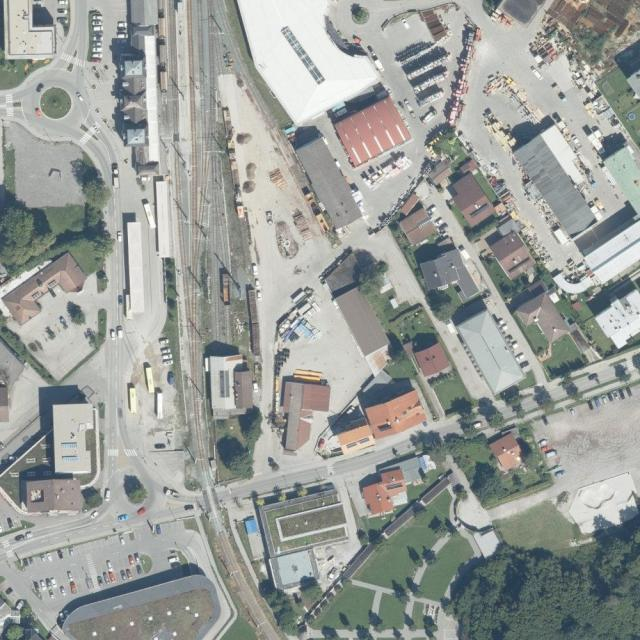building: (513, 133, 599, 239), (255, 482, 351, 558), (294, 136, 364, 231), (118, 23, 160, 171), (456, 308, 526, 396), (331, 95, 412, 169), (334, 285, 391, 358), (418, 247, 481, 313), (281, 371, 331, 453), (205, 352, 258, 420), (513, 290, 571, 352), (363, 389, 429, 442), (539, 123, 591, 187), (592, 285, 640, 350), (357, 466, 414, 520), (446, 172, 496, 229), (52, 404, 93, 473), (602, 145, 640, 216), (488, 229, 537, 281), (22, 478, 82, 513), (270, 550, 316, 590), (489, 432, 529, 474), (398, 207, 438, 247), (615, 40, 640, 98), (414, 342, 452, 380), (336, 423, 377, 456), (502, 0, 544, 25), (0, 382, 10, 422)
greenland: (355, 513, 443, 604), (494, 493, 585, 571), (31, 202, 116, 278), (442, 422, 511, 510), (411, 531, 478, 607), (0, 198, 58, 279), (0, 315, 58, 391), (215, 406, 264, 483), (476, 242, 533, 303), (387, 218, 433, 288), (413, 489, 468, 543), (311, 584, 375, 630), (566, 297, 615, 357), (529, 262, 579, 320), (535, 333, 589, 385), (512, 420, 552, 485), (562, 19, 612, 67), (0, 50, 49, 90), (35, 82, 77, 124), (420, 282, 461, 324), (518, 314, 553, 358), (77, 174, 116, 213), (115, 471, 151, 507), (501, 471, 546, 494), (220, 616, 261, 640), (378, 594, 406, 629), (411, 239, 444, 265), (410, 431, 444, 454), (529, 382, 555, 412), (78, 485, 103, 511), (402, 543, 426, 569), (388, 577, 410, 605), (4, 145, 15, 193), (485, 410, 508, 432), (365, 515, 393, 533), (406, 482, 431, 502), (451, 481, 471, 503), (422, 614, 439, 639), (440, 518, 459, 538), (510, 400, 528, 421), (351, 3, 369, 24), (411, 603, 424, 629), (98, 309, 108, 339), (96, 269, 109, 292), (422, 547, 438, 565), (356, 527, 369, 544), (373, 621, 387, 634), (393, 627, 403, 640)
metalled_road: (0, 514, 237, 640), (427, 187, 549, 391), (215, 433, 418, 506), (437, 552, 479, 609), (344, 568, 394, 614), (457, 525, 485, 559), (411, 596, 442, 621), (438, 610, 459, 639), (430, 532, 452, 554), (497, 398, 517, 421), (411, 561, 428, 585), (574, 373, 593, 393), (548, 385, 568, 403), (519, 394, 537, 413), (403, 593, 417, 617), (598, 367, 617, 383), (304, 625, 324, 640), (622, 359, 638, 375), (439, 426, 464, 436), (476, 415, 486, 426)
